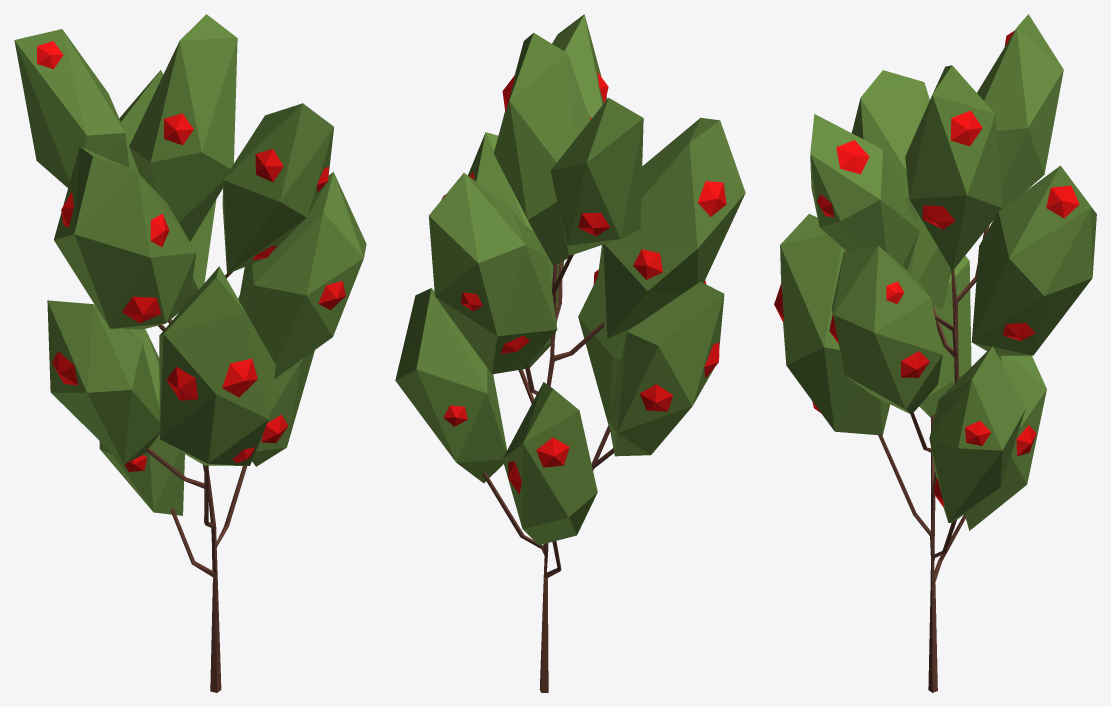
The model's file is mountain_ash_with_berries.fbx.
3 renders of one model, left to right at view 1: azimuth 30°, elevation 25°; view 2: azimuth 150°, elevation 25°; view 3: azimuth 270°, elevation 25°, orthographic. The views are drawn at different scales.
Parts seen in each view (by area): view 1: mountain_ash_with_berries; view 2: mountain_ash_with_berries; view 3: mountain_ash_with_berries.
Boxes of the visible parts, x1,y1,x2,y2 form: mountain_ash_with_berries: (14, 14, 366, 692); mountain_ash_with_berries: (395, 14, 745, 692); mountain_ash_with_berries: (774, 14, 1096, 692).
Bounding box in the file's own units: 145 × 316 × 148.
